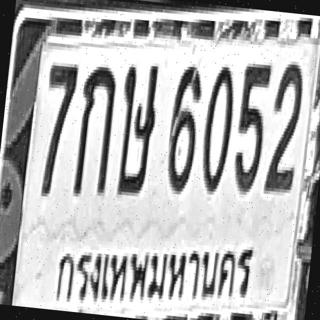A01: (72, 62, 119, 196)
A39: (113, 60, 161, 198)
N00: (198, 62, 238, 192)
N02: (264, 60, 305, 193)
N05: (231, 59, 271, 193)
N06: (164, 62, 203, 192)
N07: (36, 60, 78, 196)
P04: (47, 210, 259, 320)
